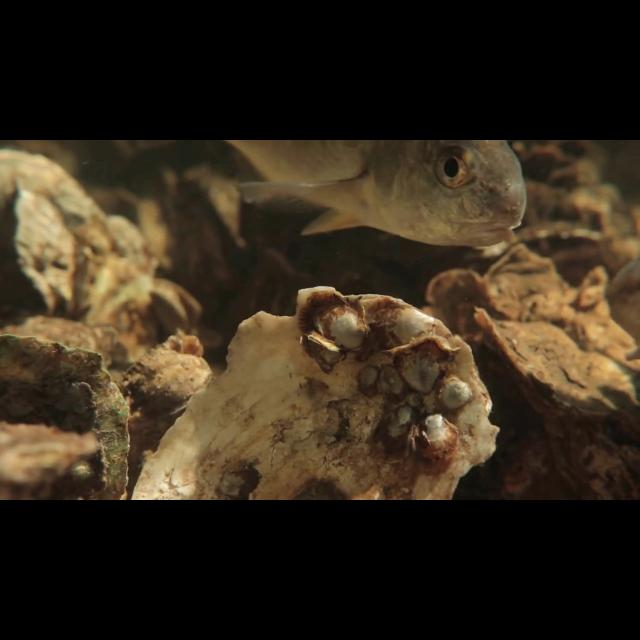Oyster-Closed: (132, 283, 501, 500), (463, 304, 637, 432), (0, 332, 132, 500), (112, 331, 216, 500), (7, 171, 83, 315)
